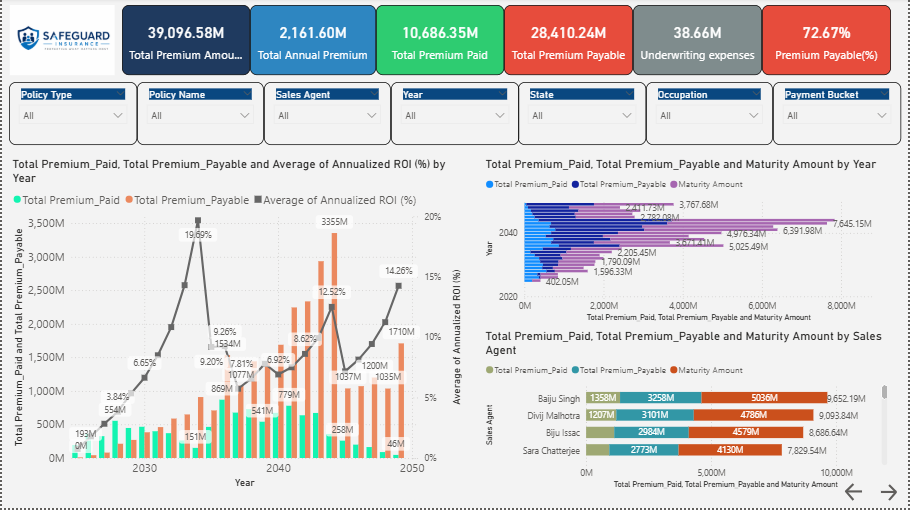

What the dashboard file says about the page in this screenshot:
{"tool":"powerbi","page":{"name":"Premium Analysis (5-20 Years) ","canvas":[1280,720],"ordinal":4},"visuals":[{"type":"image","box":[0,10,170,98.6],"z":0},{"type":"slicer","fields":{"Values":["DM Policy_Type.Policy Type"]},"box":[9.9,118.6,180.7,88.9],"z":1000},{"type":"slicer","fields":{"Values":["DM Policy_Protection_Plan.Policy Name"]},"box":[190.6,118.6,179.3,88.9],"z":2000},{"type":"slicer","fields":{"Values":["DM Insurance_Agent_Table.Sales Agent"]},"box":[369.9,118.6,179.3,88.9],"z":3000},{"type":"slicer","fields":{"Values":["FCT Insurance_Policy_Table.Date of Purchase.Variation.Date Hierarchy.Year"]},"box":[549.2,118.6,180.7,88.9],"z":4000},{"type":"slicer","fields":{"Values":["DM Customer_Detail_Table.State"]},"box":[728.5,118.6,180.7,88.9],"z":5000},{"type":"slicer","fields":{"Values":["DM Customer_Detail_Table.Occupation"]},"box":[909.2,118.6,179.3,88.9],"z":6000},{"type":"card","fields":{"Values":["FCT Insurance_Policy_Table.Premium Payable(%)"]},"box":[1072.9,9.9,182.1,98.8],"z":7000},{"type":"lineClusteredColumnComboChart","fields":{"Y":["FCT Insurance_Policy_Table.Total Premium_Paid","FCT Insurance_Policy_Table.Total Premium_Payable"],"Y2":["Avg(FCT Insurance_Policy_Table.Annualized ROI (%))"],"Category":["FCT Insurance_Policy_Table.Tenure Date.Variation.Date Hierarchy.Year"]},"box":[9.9,224.5,643.8,472.9],"z":8000},{"type":"slicer","fields":{"Values":["FCT Insurance_Policy_Table.Payment Bucket"]},"box":[1088.5,118.6,180.7,88.9],"z":9000},{"type":"barChart","fields":{"Category":["FCT Insurance_Policy_Table.Tenure Date.Variation.Date Hierarchy.Year"],"Y":["FCT Insurance_Policy_Table.Total Premium_Paid","FCT Insurance_Policy_Table.Total Premium_Payable","Sum(FCT Insurance_Policy_Table.Maturity Amount)"]},"box":[677.6,224.5,577.4,237.2],"z":10000},{"type":"barChart","fields":{"Y":["FCT Insurance_Policy_Table.Total Premium_Paid","FCT Insurance_Policy_Table.Total Premium_Payable","Sum(FCT Insurance_Policy_Table.Maturity Amount)"],"Category":["DM Insurance_Agent_Table.Sales Agent"]},"box":[677.6,467.3,577.4,230.1],"z":11000},{"type":"card","fields":{"Values":["Sum(FCT Insurance_Policy_Table.Total Premium Amount)"]},"box":[169.4,9.9,180.7,98.8],"z":12000},{"type":"card","fields":{"Values":["Sum(FCT Insurance_Policy_Table.Total Annual Premium)"]},"box":[350.1,9.9,177.9,98.8],"z":13000},{"type":"card","fields":{"Values":["Sum(FCT Insurance_Policy_Table.Total Premium Paid)"]},"box":[528,9.9,180.7,98.8],"z":14000},{"type":"card","fields":{"Values":["Sum(FCT Insurance_Policy_Table.Total Premium Payable)"]},"box":[708.7,9.9,182.1,98.8],"z":15000},{"type":"card","fields":{"Values":["Sum(FCT Insurance_Policy_Table.Underwriting expenses)"]},"box":[890.8,9.9,182.1,98.8],"z":16000},{"type":"actionButton","box":[1235.3,681.9,39.5,32.5],"z":17000},{"type":"actionButton","box":[1185.9,680.5,55.1,33.9],"z":18000}]}

Visuals, with their boxes in screenshot pixels (x1, y1, x2, y2), scaled from the page's 1280x720 canvas onto the 910x510 screenshot:
image: pyautogui.locateOnScreen(0, 7, 121, 77)
slicer - DM Policy_Type.Policy Type: pyautogui.locateOnScreen(7, 84, 136, 147)
slicer - DM Policy_Protection_Plan.Policy Name: pyautogui.locateOnScreen(136, 84, 263, 147)
slicer - DM Insurance_Agent_Table.Sales Agent: pyautogui.locateOnScreen(263, 84, 390, 147)
slicer - FCT Insurance_Policy_Table.Date of Purchase.Variation.Date Hierarchy.Year: pyautogui.locateOnScreen(390, 84, 519, 147)
slicer - DM Customer_Detail_Table.State: pyautogui.locateOnScreen(518, 84, 646, 147)
slicer - DM Customer_Detail_Table.Occupation: pyautogui.locateOnScreen(646, 84, 774, 147)
card - FCT Insurance_Policy_Table.Premium Payable(%): pyautogui.locateOnScreen(763, 7, 892, 77)
lineClusteredColumnComboChart - FCT Insurance_Policy_Table.Total Premium_Paid x FCT Insurance_Policy_Table.Total Premium_Payable: pyautogui.locateOnScreen(7, 159, 465, 494)
slicer - FCT Insurance_Policy_Table.Payment Bucket: pyautogui.locateOnScreen(774, 84, 902, 147)
barChart - FCT Insurance_Policy_Table.Tenure Date.Variation.Date Hierarchy.Year x FCT Insurance_Policy_Table.Total Premium_Paid: pyautogui.locateOnScreen(482, 159, 892, 327)
barChart - FCT Insurance_Policy_Table.Total Premium_Paid x FCT Insurance_Policy_Table.Total Premium_Payable: pyautogui.locateOnScreen(482, 331, 892, 494)
card - Sum(FCT Insurance_Policy_Table.Total Premium Amount): pyautogui.locateOnScreen(120, 7, 249, 77)
card - Sum(FCT Insurance_Policy_Table.Total Annual Premium): pyautogui.locateOnScreen(249, 7, 375, 77)
card - Sum(FCT Insurance_Policy_Table.Total Premium Paid): pyautogui.locateOnScreen(375, 7, 504, 77)
card - Sum(FCT Insurance_Policy_Table.Total Premium Payable): pyautogui.locateOnScreen(504, 7, 633, 77)
card - Sum(FCT Insurance_Policy_Table.Underwriting expenses): pyautogui.locateOnScreen(633, 7, 763, 77)
actionButton: pyautogui.locateOnScreen(878, 483, 906, 506)
actionButton: pyautogui.locateOnScreen(843, 482, 882, 506)
